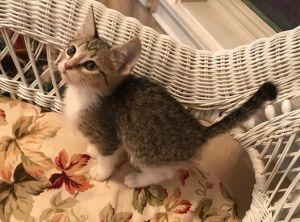bengal: (51, 1, 145, 93)
